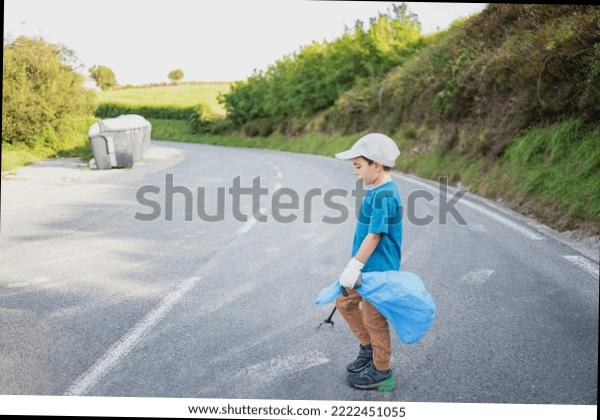road: (0, 142, 598, 420), (0, 393, 483, 420), (183, 395, 596, 420)
sky: (3, 0, 349, 402)
